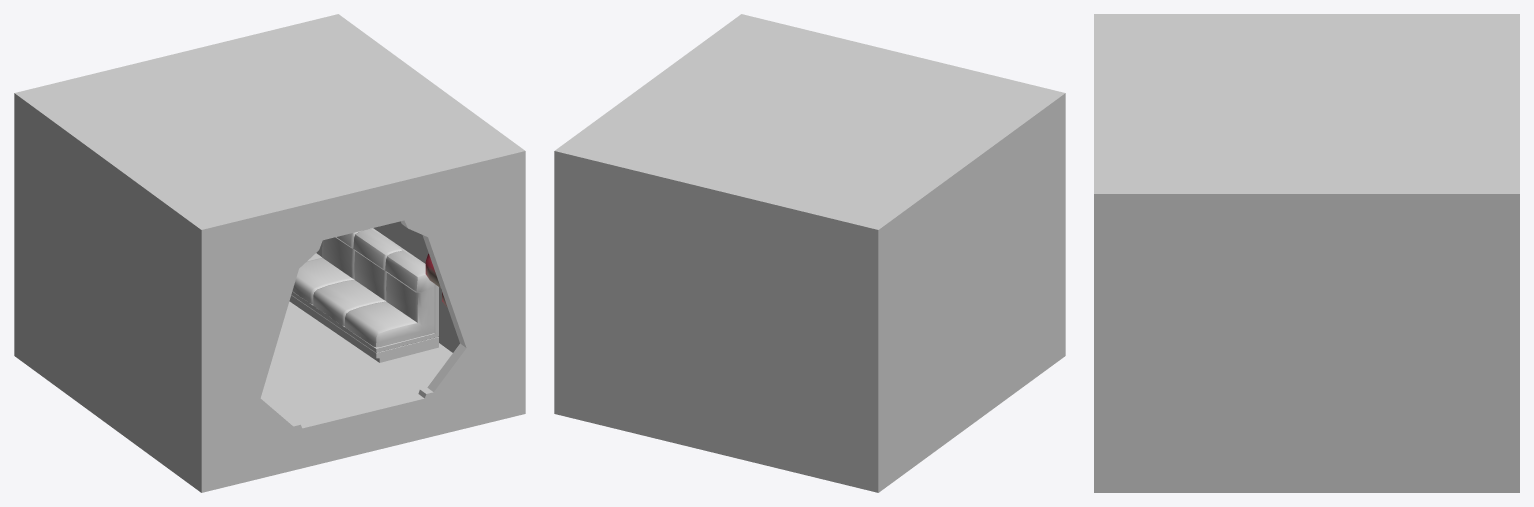
Rendered from mod_special_Kitchen.glb.
3 renders of one model, left to right at view 1: azimuth 30°, elevation 25°; view 2: azimuth 150°, elevation 25°; view 3: azimuth 270°, elevation 25°, orthographic. The views are drawn at different scales.
Parts seen in each view (by area): view 1: Plane.057, Cube.115; view 2: Plane.057; view 3: Plane.057.
Boxes of the visible parts, x1,y1,x2,y2 form: Plane.057: (14, 14, 525, 492); Cube.115: (289, 228, 438, 362); Plane.057: (554, 14, 1065, 492); Plane.057: (1094, 14, 1519, 492).
Bounding box in the file's own units: 5 × 3.88 × 5.
1 material, 1 textured.
